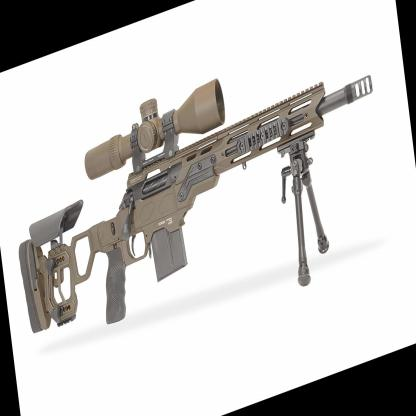rifle: (0, 19, 414, 342)
